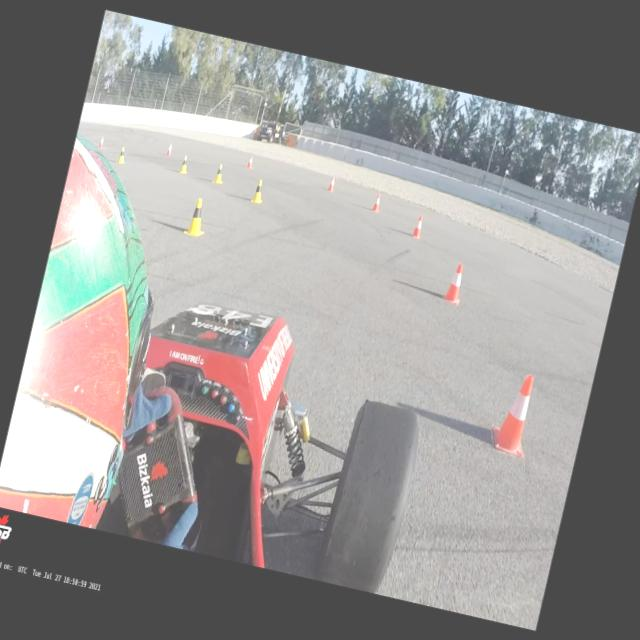orange_cone: (487, 370, 539, 458), (442, 262, 468, 306), (410, 214, 424, 239), (372, 192, 382, 212), (327, 175, 336, 191), (246, 154, 253, 168), (98, 136, 105, 148), (166, 143, 172, 155)
yellow_cone: (182, 196, 210, 238), (250, 178, 266, 204), (212, 162, 226, 185), (117, 145, 128, 165), (179, 154, 190, 174)
